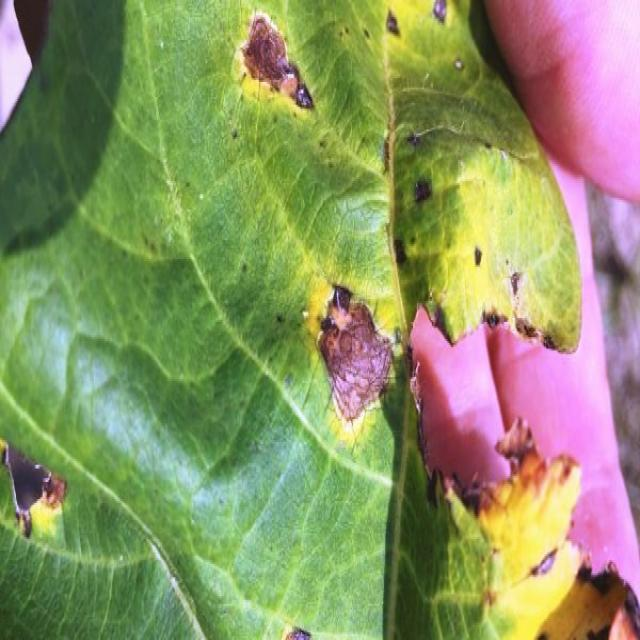Bacterial Blight: (310, 218, 572, 525)
